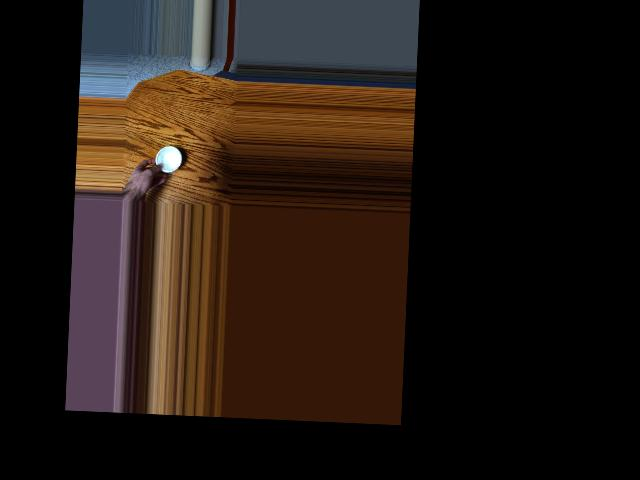cotage: (153, 145, 184, 172)
